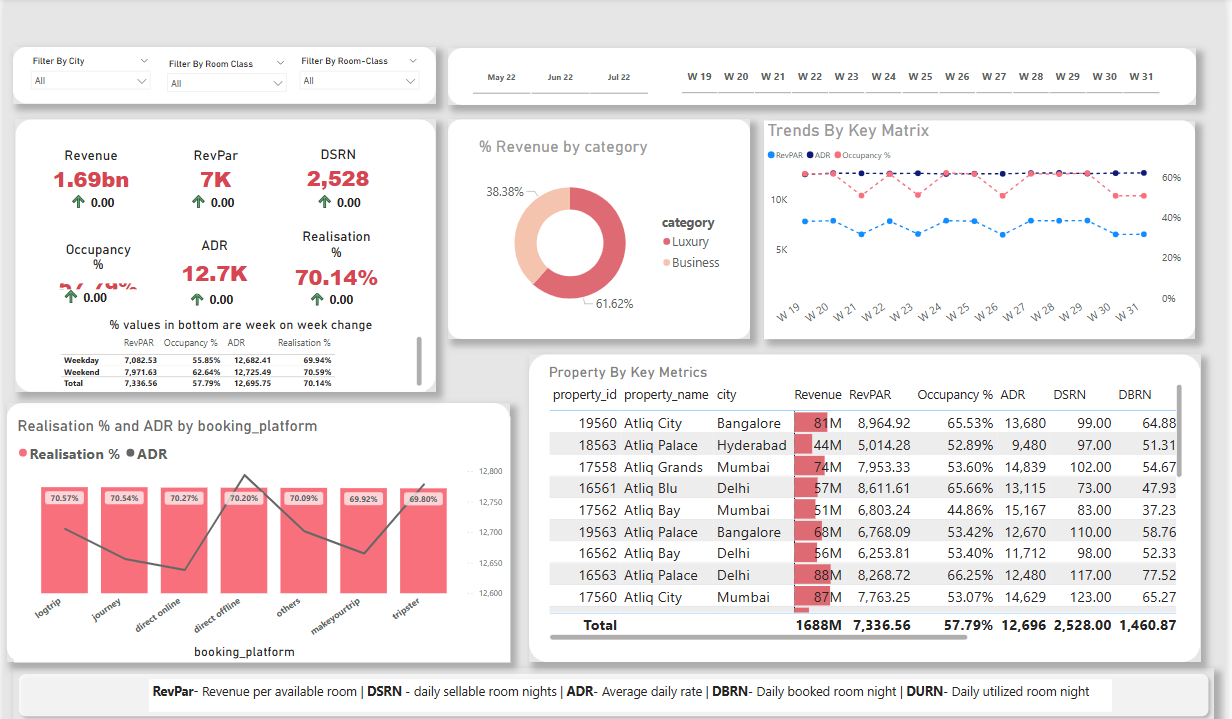

The page's visual inventory and layout, read from the dashboard file:
{"tool":"powerbi","page":{"name":"Page 1","canvas":[1800,1100],"ordinal":0},"visuals":[{"type":"shape","box":[774,526,990,454],"z":0},{"type":"shape","box":[4,598,742,382],"z":1000},{"type":"shape","box":[1120,180,636,322],"z":2000},{"type":"shape","box":[654,178,446,324],"z":3000},{"type":"shape","box":[16,178,620,402],"z":4000},{"type":"shape","box":[654,74,1104,84],"z":5000},{"type":"shape","box":[12,72,624,84],"z":6000},{"type":"tableEx","title":"Property By Key Metrics","fields":{"Values":["dim_hotels.property_id","dim_hotels.property_name","dim_hotels.city","Key_measures.Revenue","Key_measures.RevPAR","Key_measures.Occupancy %","Key_measures.ADR","Key_measures.DSRN","Key_measures.DBRN","Key_measures.DURN","Key_measures.Realisation %","Key_measures.Cancellation %"]},"box":[798,538,944,414],"z":7000},{"type":"slicer","fields":{"Values":["dim_hotels.city"]},"box":[30,82,196,64],"z":8000},{"type":"slicer","fields":{"Values":["dim_rooms.room_class"]},"box":[230,84,196,64],"z":9000},{"type":"slicer","fields":{"Values":["dim_date.mmm yy"]},"box":[665.4,84.8,307.8,62.7],"z":10000},{"type":"slicer","fields":{"Values":["dim_date.week no"]},"box":[974,84,754,62],"z":11000},{"type":"tableEx","fields":{"Values":["Key_measures.Revenue WoW change %"]},"box":[88,254,92,74],"z":12000},{"type":"card","title":"Revenue","fields":{"Values":["Key_measures.Revenue"]},"box":[42,220,172,70],"z":13000},{"type":"donutChart","title":"% Revenue by category","fields":{"Category":["dim_hotels.category"],"Y":["Key_measures.Revenue"]},"box":[694,204,376,284],"z":14000},{"type":"tableEx","fields":{"Values":["Key_measures.Revenue WoW change %"]},"box":[266,254,94,70],"z":15000},{"type":"tableEx","fields":{"Values":["Key_measures.Revenue WoW change %"]},"box":[452,254,94,74],"z":16000},{"type":"card","title":"RevPar","fields":{"Values":["Key_measures.RevPAR"]},"box":[246,220,134,70],"z":17000},{"type":"card","title":"DSRN","fields":{"Values":["Key_measures.DSRN"]},"box":[426,218,134,72],"z":18000},{"type":"lineChart","title":"Trends By Key Matrix","fields":{"Category":["dim_date.mmm yy.Variation.Date Hierarchy.Month","dim_date.week no"],"Y":["Key_measures.RevPAR","Key_measures.ADR"],"Y2":["Key_measures.Occupancy %"]},"box":[1120,180,620,322],"z":19000},{"type":"lineStackedColumnComboChart","fields":{"Category":["fact_bookings.booking_platform"],"Y":["Key_measures.Realisation %"],"Y2":["Key_measures.ADR"]},"box":[14,618,732,362],"z":20000},{"type":"tableEx","title":"% values in bottom are week on week change","fields":{"Values":["dim_date.day_type","Key_measures.RevPAR","Key_measures.Occupancy %","Key_measures.ADR","Key_measures.Realisation %"]},"box":[78,470,544,110],"z":21000},{"type":"tableEx","fields":{"Values":["Key_measures.Revenue WoW change %"]},"box":[78,394,102,70],"z":22000},{"type":"card","title":"Occupancy %","fields":{"Values":["Key_measures.Occupancy %"]},"box":[64.5,357.6,149.3,71.9],"z":23000},{"type":"tableEx","fields":{"Values":["Key_measures.Revenue WoW change %"]},"box":[264,398,100,66],"z":24000},{"type":"card","title":"ADR","fields":{"Values":["Key_measures.ADR"]},"box":[242,352,138,84],"z":25000},{"type":"tableEx","fields":{"Values":["Key_measures.Revenue WoW change %"]},"box":[440,398,120,72],"z":26000},{"type":"card","title":"Realisation %","fields":{"Values":["Key_measures.Realisation %"]},"box":[420,340,140,96],"z":27000},{"type":"shape","box":[12,988,1772,80],"z":28000},{"type":"textbox","box":[214,1004,1420,48],"z":29000},{"type":"slicer","fields":{"Values":["dim_rooms.room_class"]},"box":[426,82,196,64],"z":30000}]}

Visuals, with their boxes on the page's 1800x1100 design canvas (x1, y1, x2, y2). These are canvas units, not pixel positions in the 1232x719 screenshot, which may show the page scaled, cropped or inside an application window:
shape: 774,526,1764,980
shape: 4,598,746,980
shape: 1120,180,1756,502
shape: 654,178,1100,502
shape: 16,178,636,580
shape: 654,74,1758,158
shape: 12,72,636,156
"Property By Key Metrics" tableEx: 798,538,1742,952
slicer - dim_hotels.city: 30,82,226,146
slicer - dim_rooms.room_class: 230,84,426,148
slicer - dim_date.mmm yy: 665,85,973,148
slicer - dim_date.week no: 974,84,1728,146
tableEx - Key_measures.Revenue WoW change %: 88,254,180,328
"Revenue" card: 42,220,214,290
"% Revenue by category" donutChart: 694,204,1070,488
tableEx - Key_measures.Revenue WoW change %: 266,254,360,324
tableEx - Key_measures.Revenue WoW change %: 452,254,546,328
"RevPar" card: 246,220,380,290
"DSRN" card: 426,218,560,290
"Trends By Key Matrix" lineChart: 1120,180,1740,502
lineStackedColumnComboChart - fact_bookings.booking_platform x Key_measures.Realisation %: 14,618,746,980
"% values in bottom are week on week change" tableEx: 78,470,622,580
tableEx - Key_measures.Revenue WoW change %: 78,394,180,464
"Occupancy %" card: 64,358,214,430
tableEx - Key_measures.Revenue WoW change %: 264,398,364,464
"ADR" card: 242,352,380,436
tableEx - Key_measures.Revenue WoW change %: 440,398,560,470
"Realisation %" card: 420,340,560,436
shape: 12,988,1784,1068
textbox: 214,1004,1634,1052
slicer - dim_rooms.room_class: 426,82,622,146
